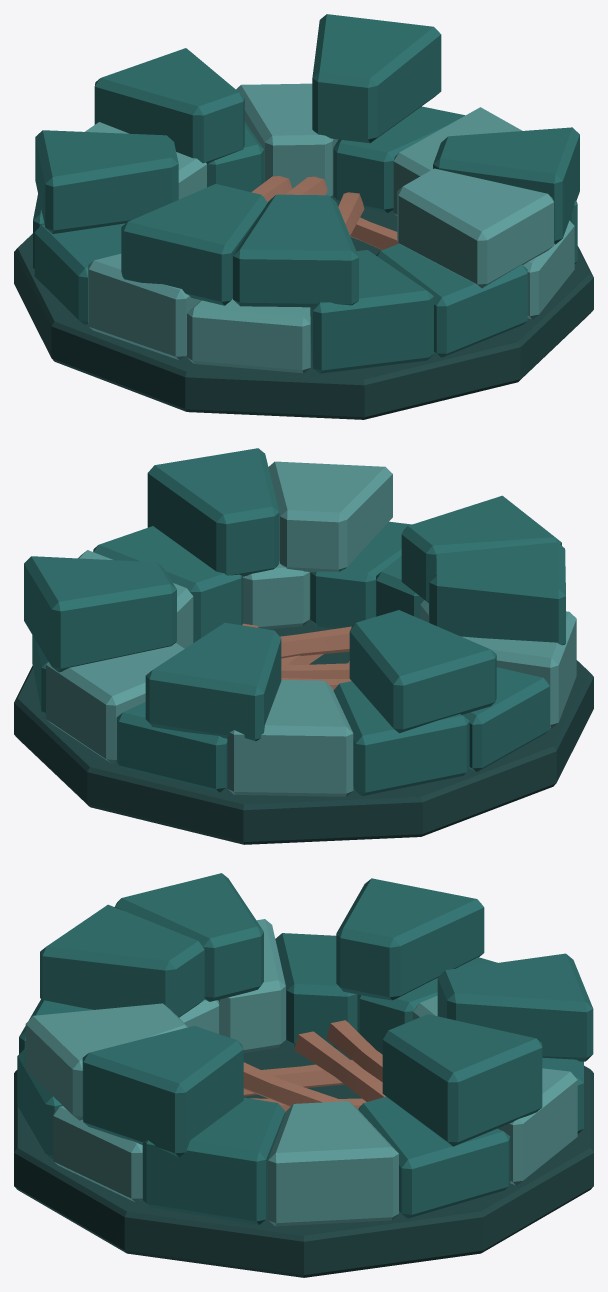
The model's file is bonfire_a004.glb.
3 renders of one model, top to bottom at view 1: azimuth 30°, elevation 25°; view 2: azimuth 150°, elevation 25°; view 3: azimuth 270°, elevation 25°, orthographic. The views are drawn at different scales.
Visible parts, largest first — view 1: bonfire_a004; view 2: bonfire_a004; view 3: bonfire_a004.
Part boxes in pixels (x1,y1,x2,y2): bonfire_a004: (14,14,593,419); bonfire_a004: (14,448,593,844); bonfire_a004: (14,873,593,1277).
Bounding box in the file's own units: 1.28 × 0.4192 × 1.22.
1 material, 1 textured.
